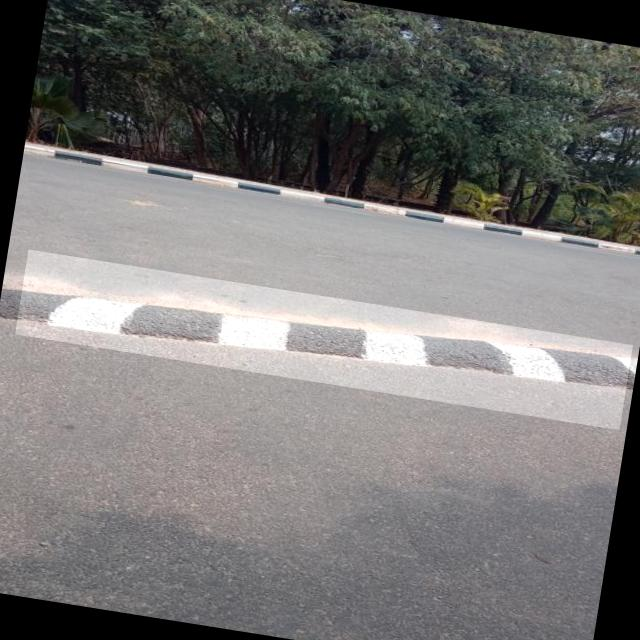bump: (16, 250, 634, 430)
